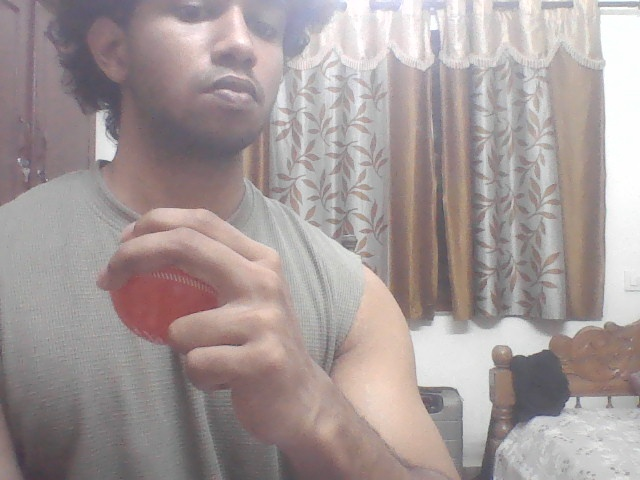cricket_ball: (101, 232, 233, 349)
